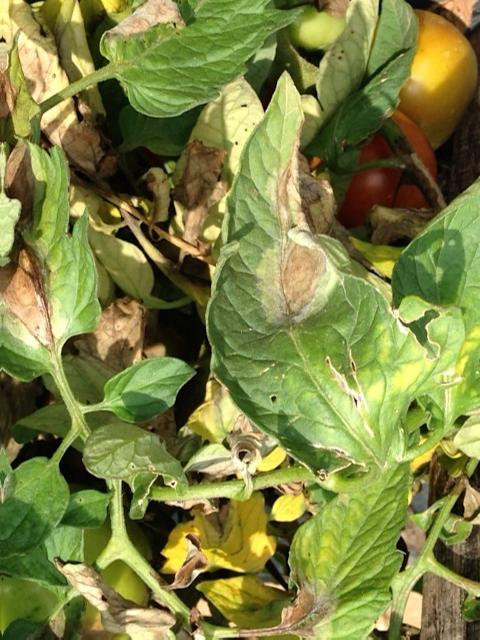Tomato leaf late blight: (211, 74, 419, 501), (79, 0, 317, 119), (267, 448, 415, 635), (1, 143, 92, 394)
